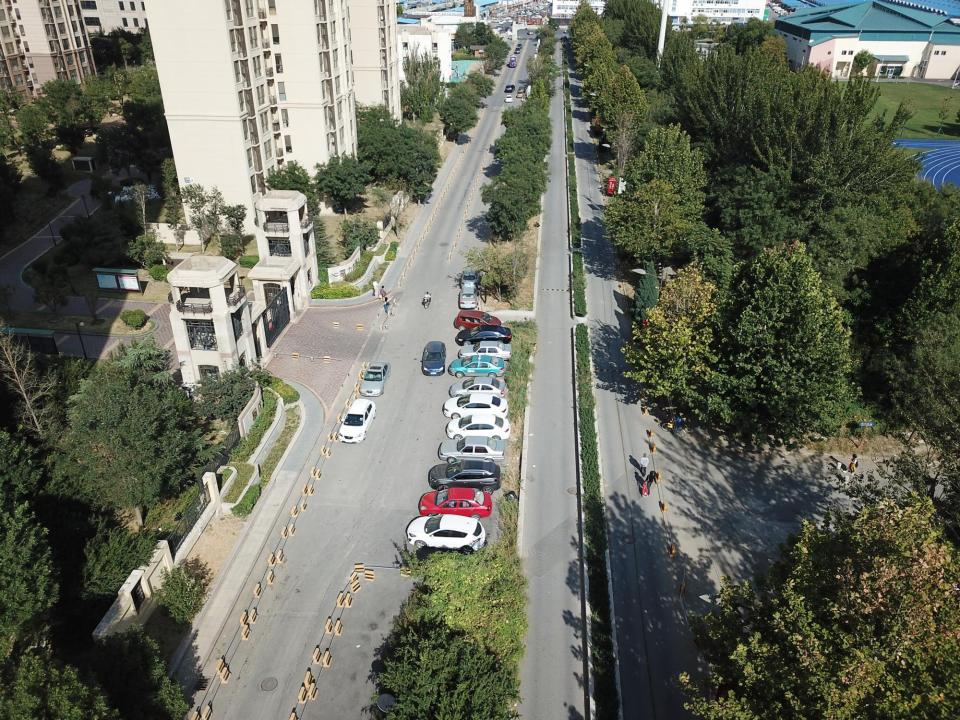car: (406, 513, 484, 555), (430, 459, 502, 495), (418, 487, 493, 521), (439, 435, 505, 465), (443, 393, 508, 422), (446, 414, 512, 442), (338, 398, 376, 444), (448, 354, 506, 378), (450, 376, 506, 400), (456, 325, 512, 347), (459, 341, 512, 362), (360, 360, 390, 396), (454, 310, 502, 332), (422, 341, 446, 376), (459, 287, 478, 308), (460, 270, 480, 288), (505, 84, 515, 93), (518, 86, 526, 93), (501, 31, 512, 36), (505, 95, 512, 102), (505, 26, 512, 32), (568, 39, 575, 45), (514, 47, 520, 54), (560, 36, 568, 40), (517, 44, 522, 49), (495, 26, 501, 30), (526, 31, 532, 35)
truck: (509, 54, 517, 67)
van: (516, 90, 524, 98), (563, 28, 573, 34)
